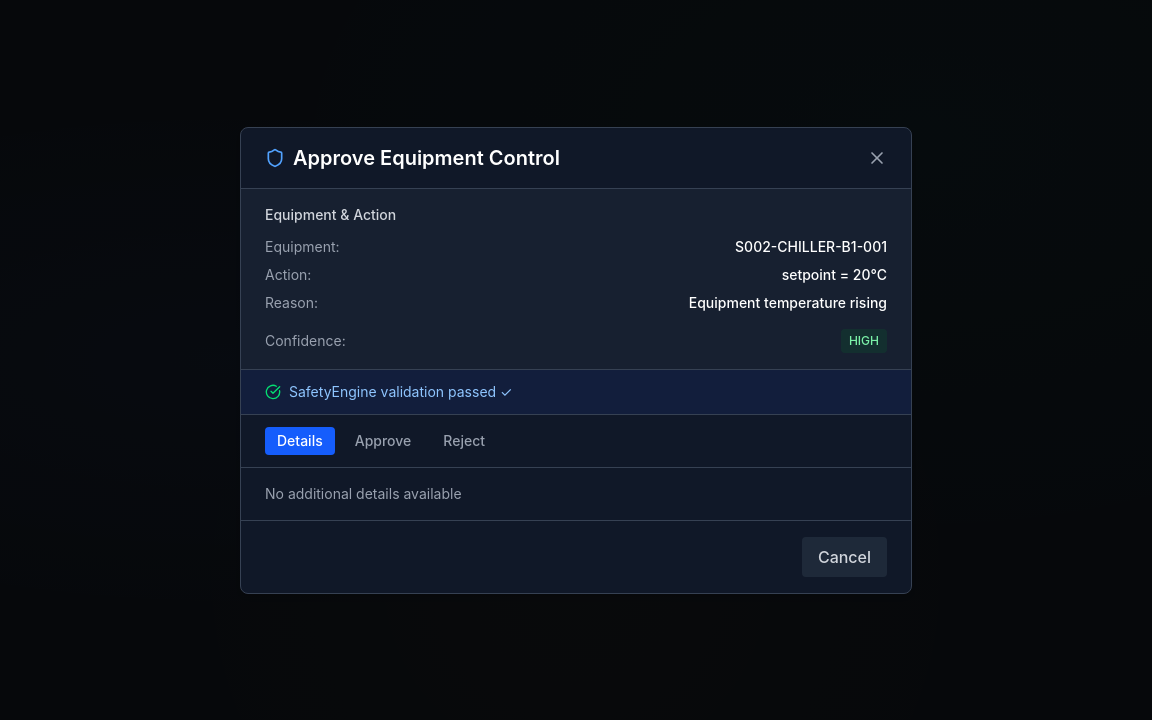
ApprovalDialog › should display error message on approval failure
# Navigate to approve tab first
Click the button "Approve".
click(383, 440)  # box [343,426,423,454]
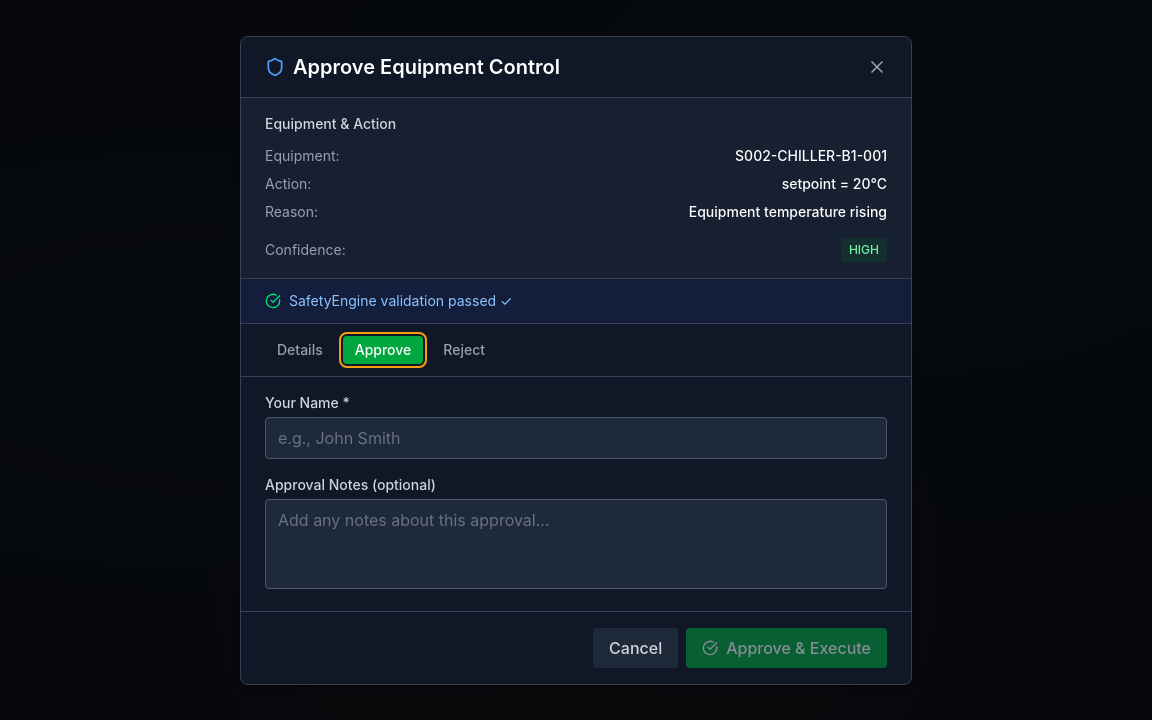
Type "John Smith" into the field with placeholder "e.g., John Smith".
click(576, 438); type("John Smith")  # box [265,416,887,458]
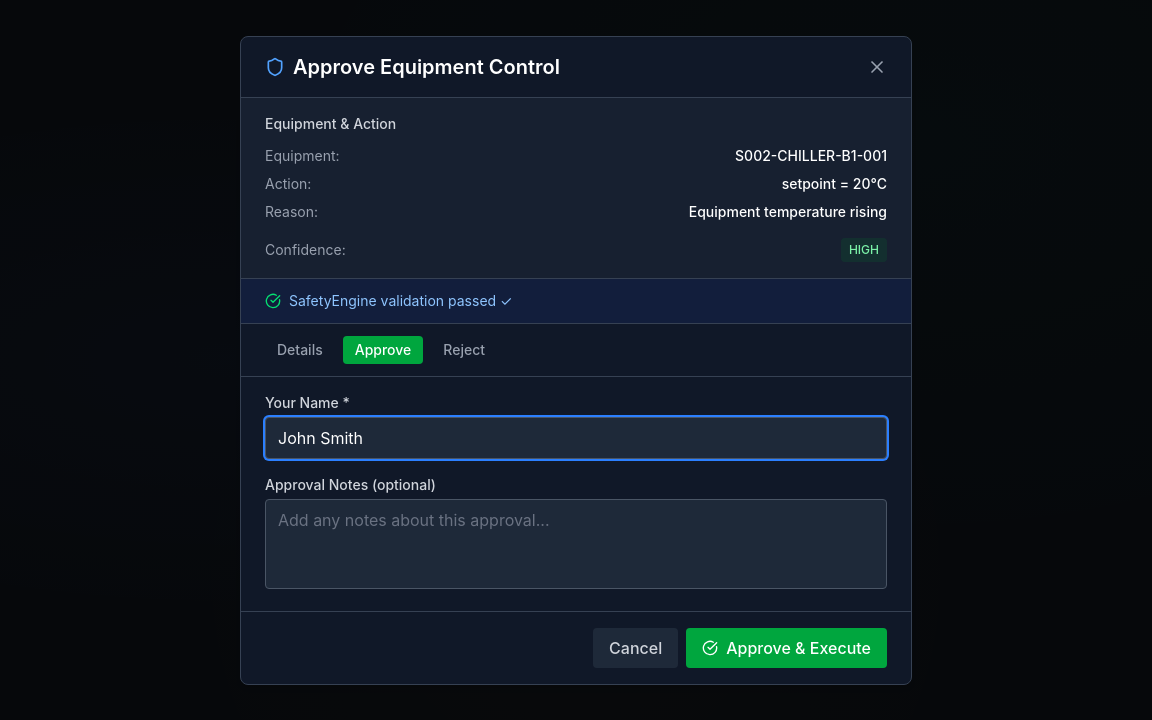
Click the button "Approve & Execute".
click(787, 648)  # box [686,628,887,668]
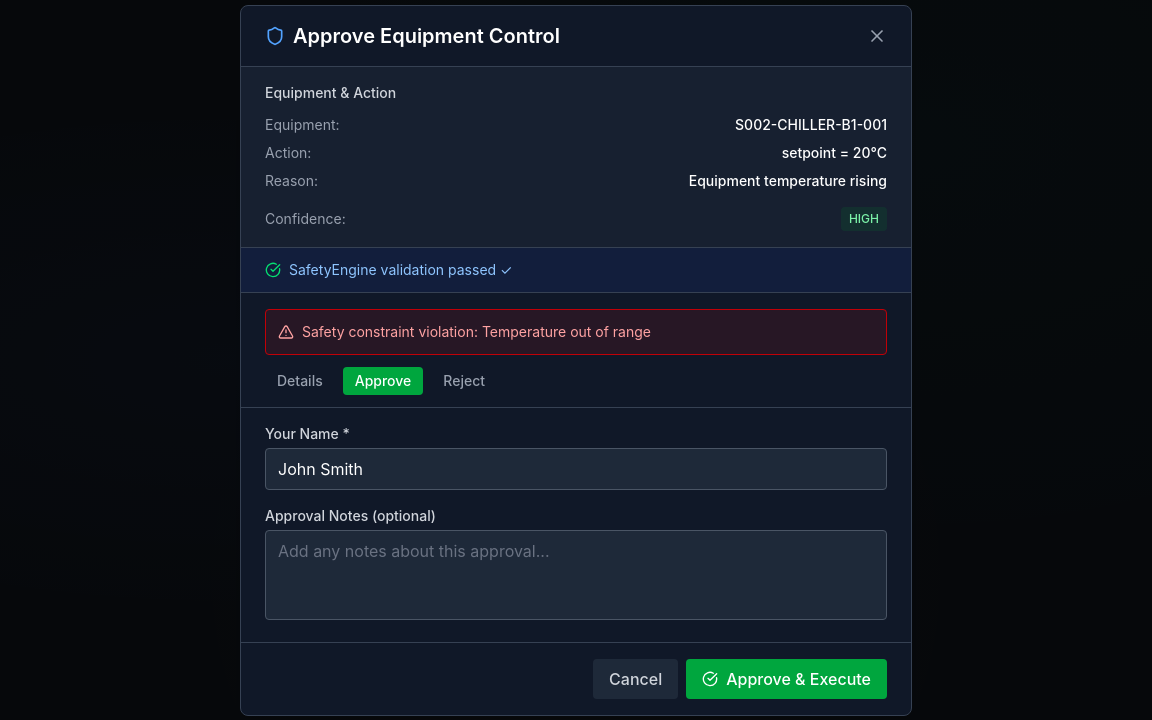
Now the text "Safety constraint violation: Temperature out of range" is shown, box [302,322,651,342]
